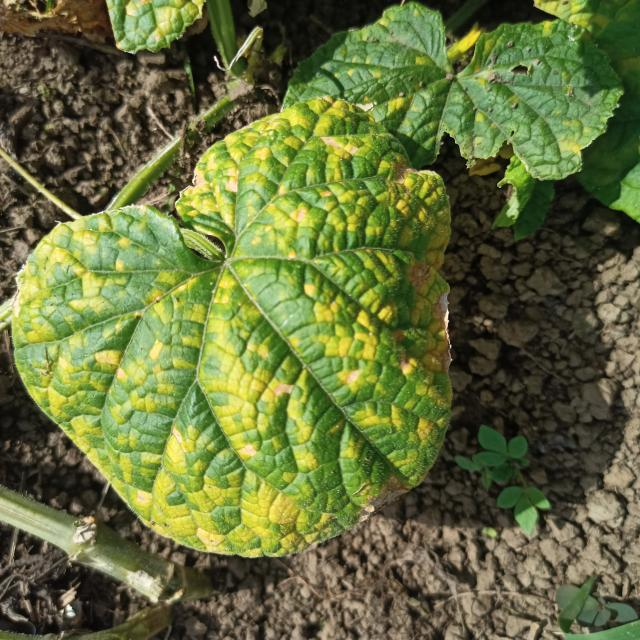disease_cucumber: (17, 109, 453, 538)
